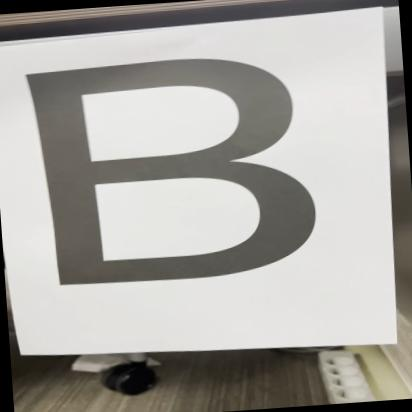seat: (1, 36, 352, 302)
